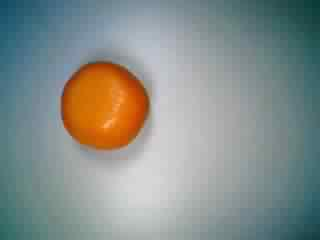orange: (58, 60, 154, 156)
